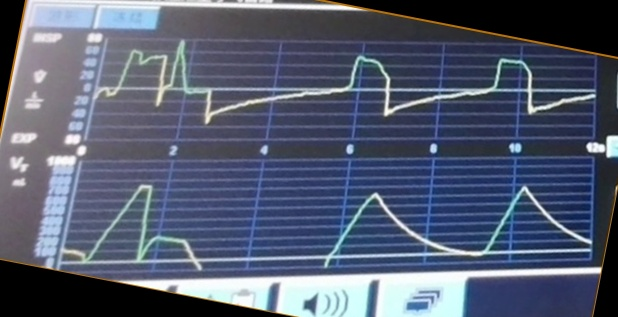Double_Triggering Flow: (102, 39, 555, 127)
Double_Triggering Volume: (71, 179, 554, 270)
